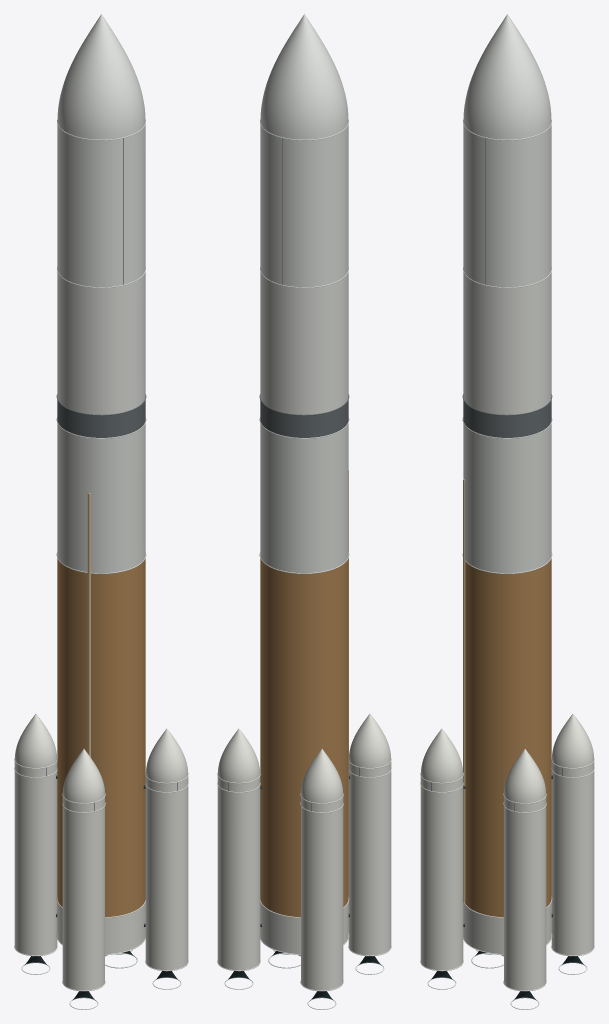
The picture shows the model from 3 angles, left to right: view 1: azimuth 30°, elevation 25°; view 2: azimuth 150°, elevation 25°; view 3: azimuth 330°, elevation 25°; orthographic projection.
Visible parts, largest first — view 1: thin-exterior-shell (×9), ogive-fairing (×4), stage-1, boosters; view 2: thin-exterior-shell (×9), ogive-fairing (×4), boosters, stage-1; view 3: thin-exterior-shell (×9), ogive-fairing (×4), stage-1, boosters.
Boxes of the visible parts, left/top/right/bottom form: thin-exterior-shell (×9): left=14, top=124, right=188, bottom=990; ogive-fairing (×4): left=15, top=14, right=188, bottom=802; stage-1: left=56, top=417, right=146, bottom=954; boosters: left=14, top=758, right=188, bottom=1009; thin-exterior-shell (×9): left=217, top=124, right=391, bottom=990; ogive-fairing (×4): left=217, top=14, right=390, bottom=802; boosters: left=217, top=758, right=391, bottom=1009; stage-1: left=259, top=417, right=349, bottom=954; thin-exterior-shell (×9): left=420, top=124, right=594, bottom=990; ogive-fairing (×4): left=420, top=14, right=593, bottom=802; stage-1: left=462, top=417, right=552, bottom=954; boosters: left=420, top=758, right=594, bottom=1009.
Bounding box in the file's own units: 1.04 × 7.95 × 1.04.
